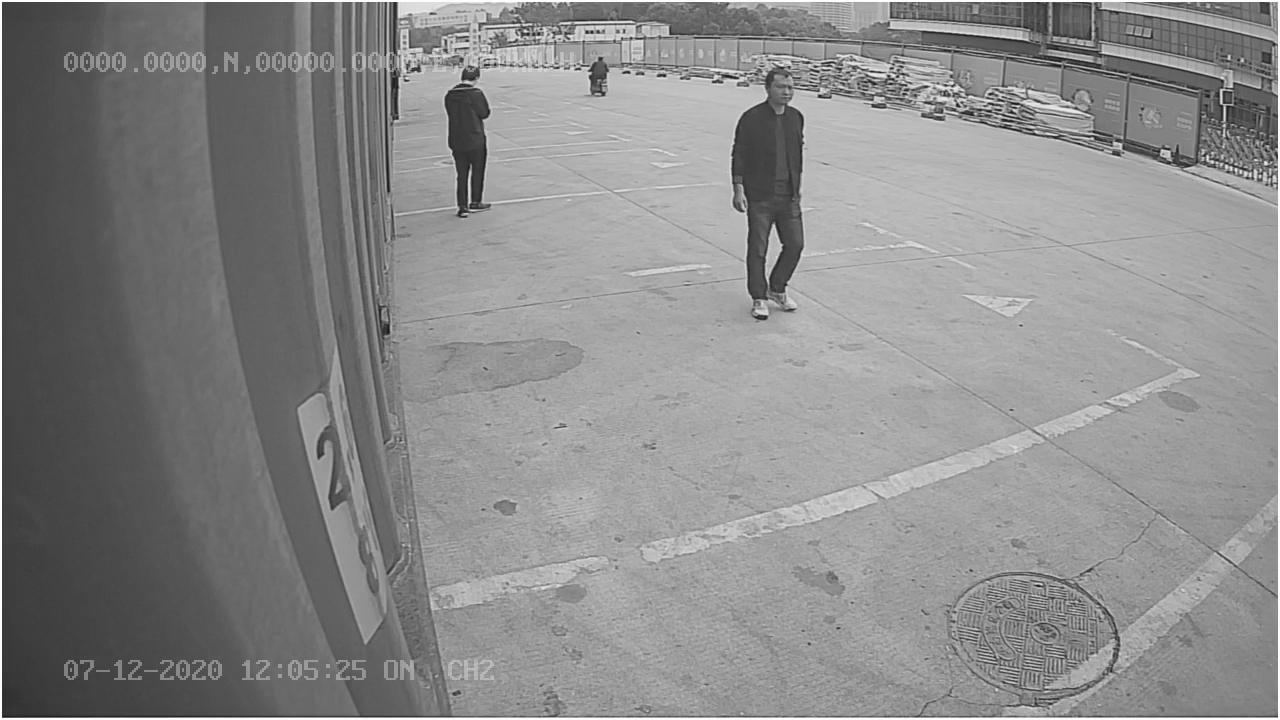person: (730, 62, 813, 323)
